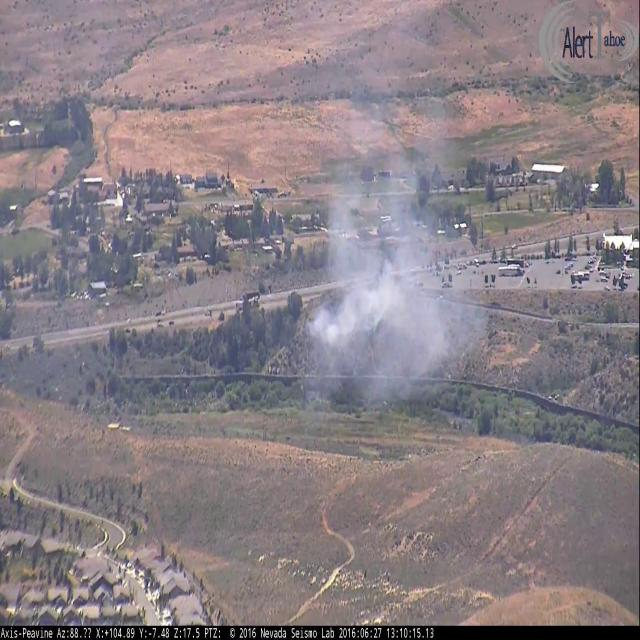smoke: (292, 148, 489, 439)
